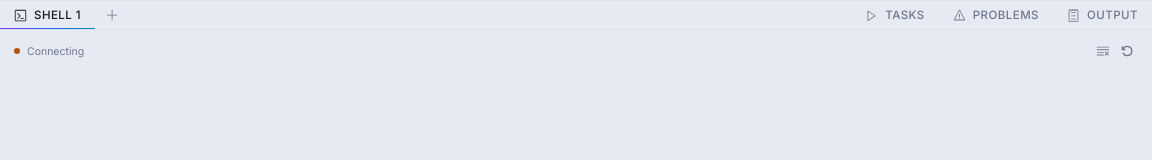
Test: panel tabs from the keyboard › closes a shell with Delete
Click the button named "New shell" at x=112, y=15, box [101,4,123,26]
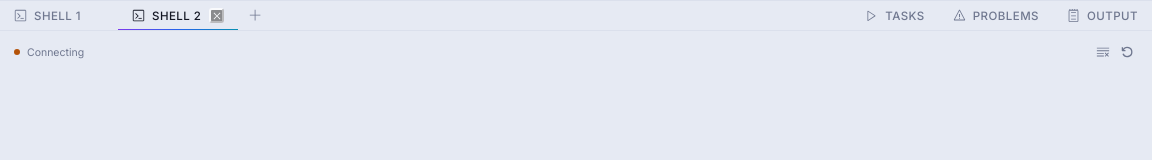
Press Delete in the tab "Shell 2", box [132,8,224,23]
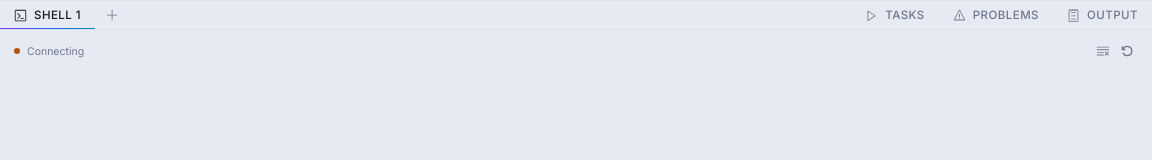
Now the tab "Shell 2" is gone
